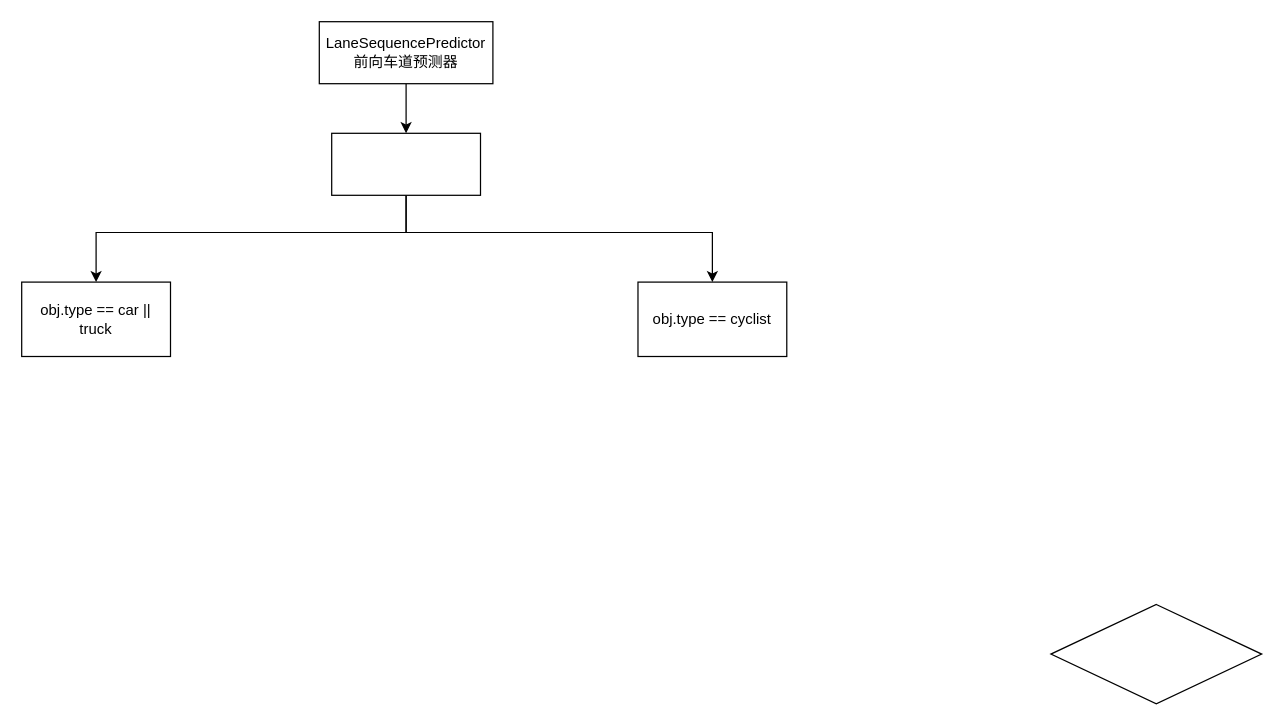
Some shapes in this 1283 by 725 pixel diagram are drawn without their labels. The shapes that lost their labels are listed below. From the top down, each one's centre as x and y in pixels, then its label:
the point at 405,163: DP->objects
the point at 1156,653: parallel_flag 是否与参考线平行
